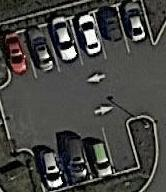parkingspot: (0, 0, 156, 89), (29, 117, 141, 192)
